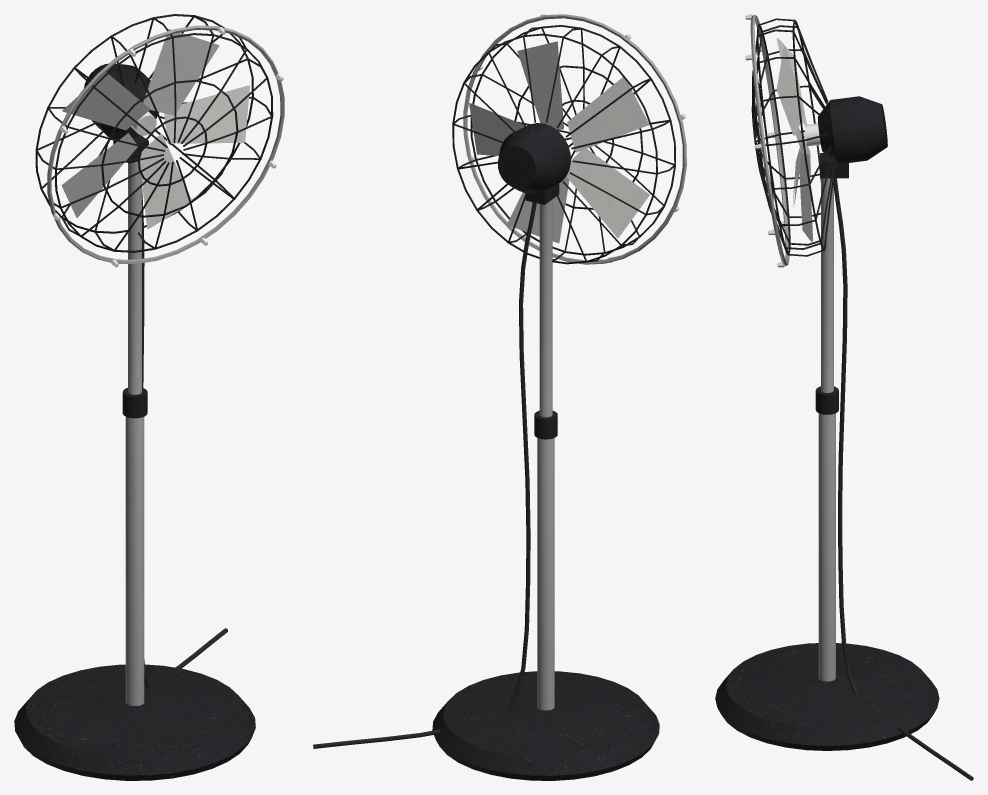
The model's file is SM_QUE_MistingFan.fbx.
3 views of the same model, side by side, from view 1: azimuth 30°, elevation 25°; view 2: azimuth 150°, elevation 25°; view 3: azimuth 270°, elevation 25° (orthographic). The views are drawn at different scales.
Parts seen in each view (by area): view 1: SM_QUE_MistingFan; view 2: SM_QUE_MistingFan; view 3: SM_QUE_MistingFan.
Boxes of the visible parts, x1,y1,x2,y2 form: SM_QUE_MistingFan: (14, 14, 284, 780); SM_QUE_MistingFan: (313, 14, 686, 780); SM_QUE_MistingFan: (715, 14, 973, 780).
Bounding box in the file's own units: 0.8546 × 2.07 × 0.7147.
